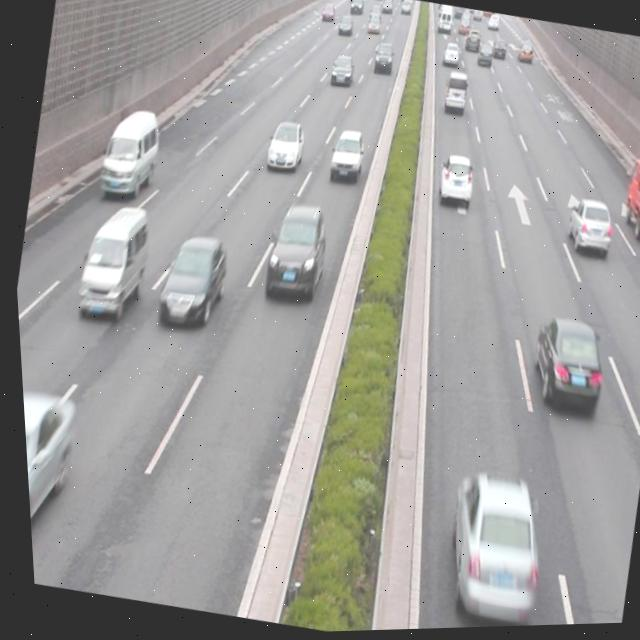bus: (613, 158, 640, 245)
car: (427, 468, 548, 631), (18, 388, 82, 572), (518, 312, 606, 418), (149, 232, 229, 331), (256, 201, 330, 307), (559, 197, 613, 265), (430, 156, 477, 212), (262, 122, 306, 170), (327, 132, 365, 184), (327, 52, 357, 90)
truck: (68, 202, 156, 330), (94, 104, 164, 200), (440, 73, 468, 120)
